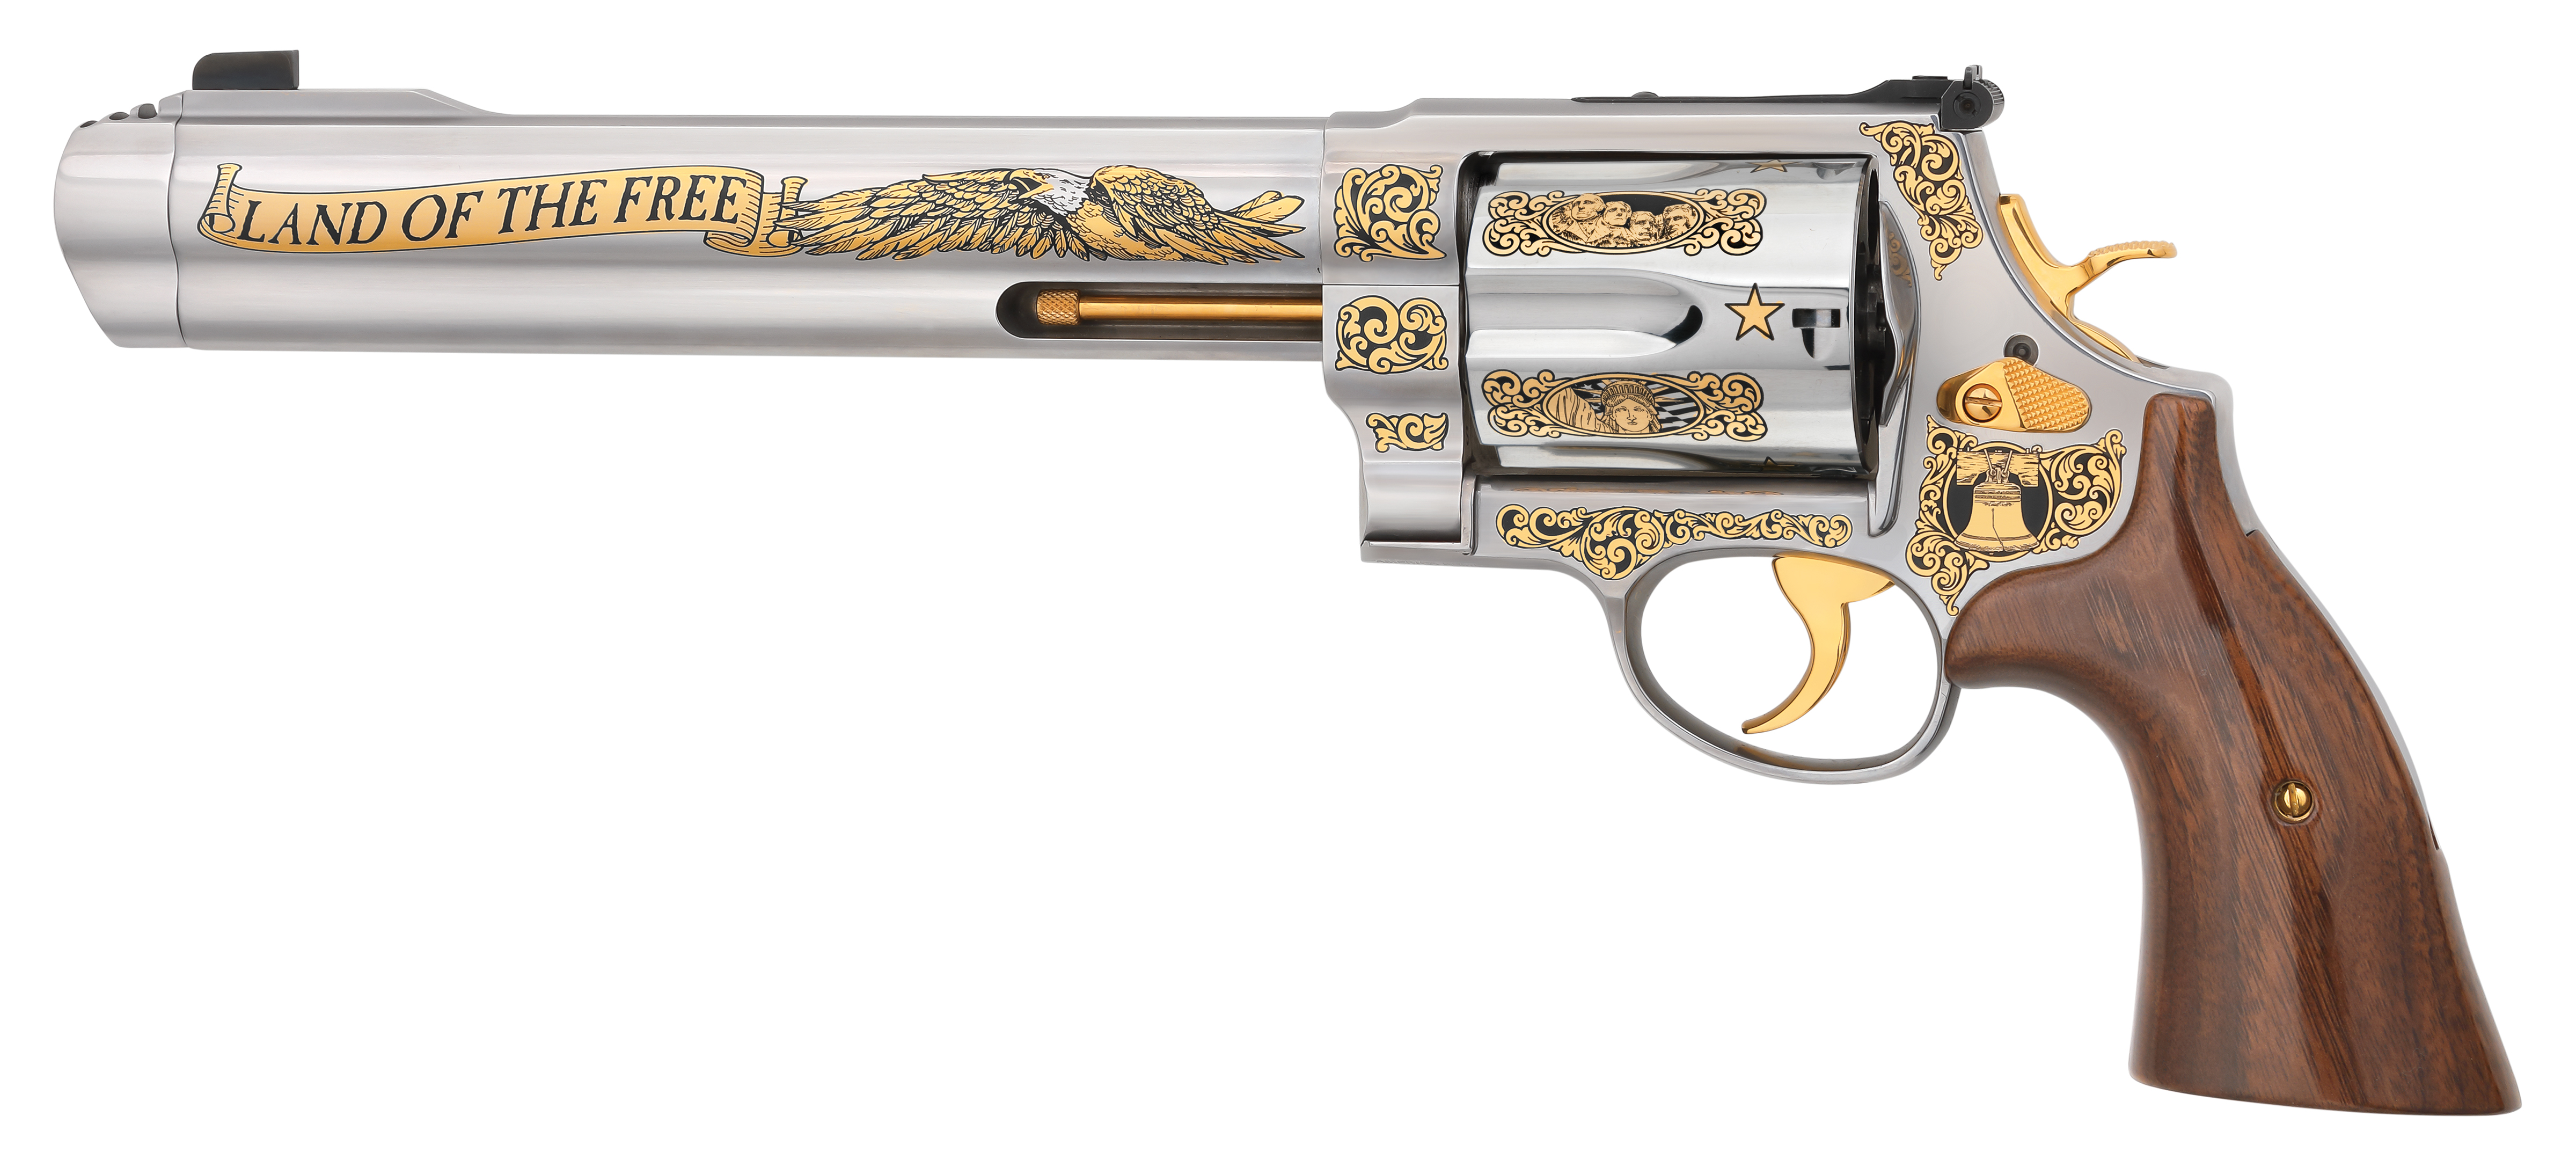Revolver: (41, 21, 2545, 1139)
